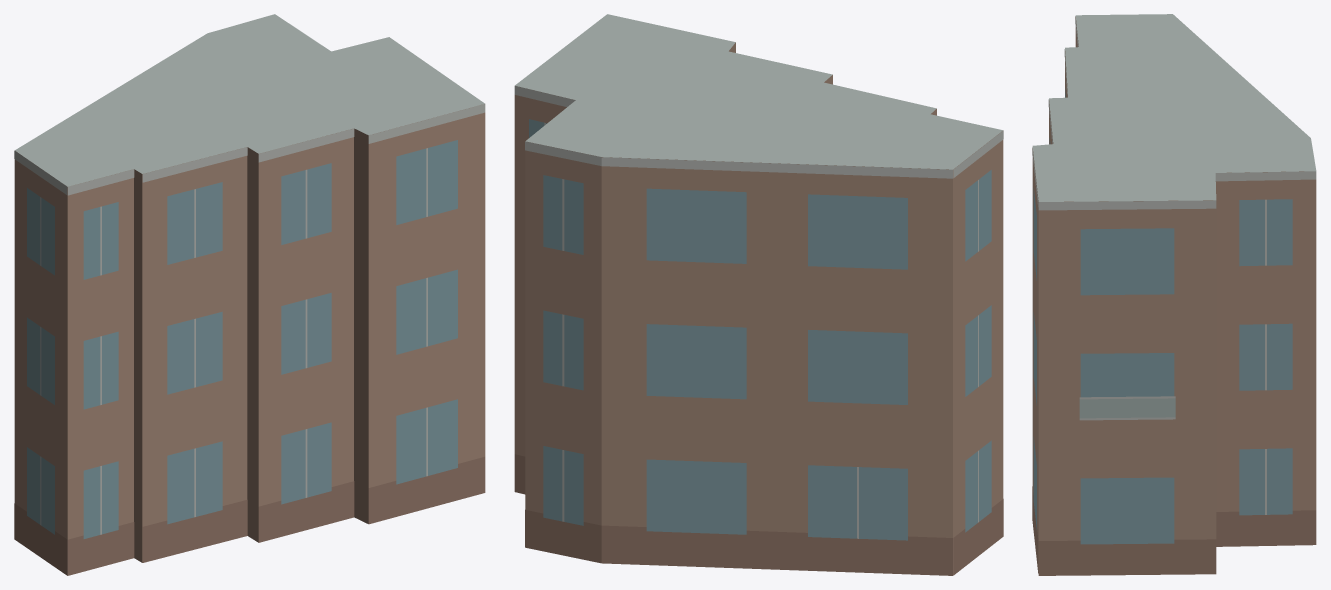
The model's file is survey-upis-32933444.glb.
3 renders of one model, left to right at view 1: azimuth 30°, elevation 25°; view 2: azimuth 150°, elevation 25°; view 3: azimuth 270°, elevation 25°, orthographic. The views are drawn at different scales.
Visible parts, largest first — view 1: survey-upis-32933444.tmp; view 2: survey-upis-32933444.tmp; view 3: survey-upis-32933444.tmp.
Part boxes in pixels (<box>): survey-upis-32933444.tmp: <box>14,14,485,575</box>; survey-upis-32933444.tmp: <box>514,14,1003,575</box>; survey-upis-32933444.tmp: <box>1032,14,1316,575</box>.
Bounding box in the file's own units: 11.72 × 10.85 × 7.48.
